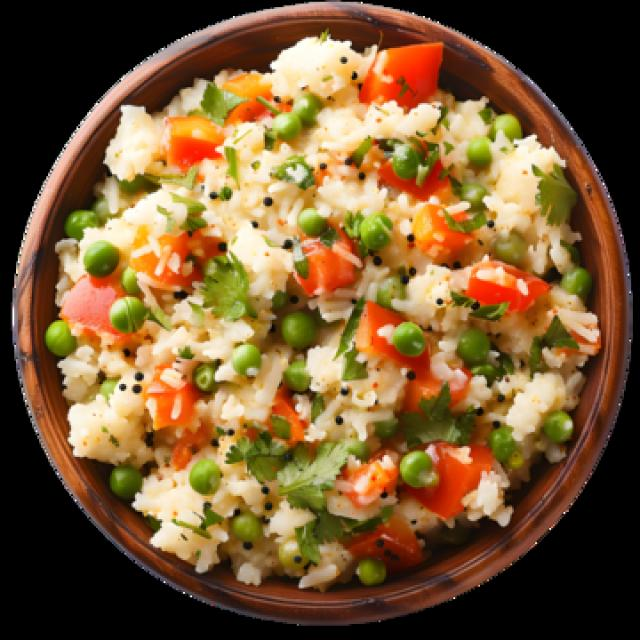UPMA: (44, 30, 599, 587)
